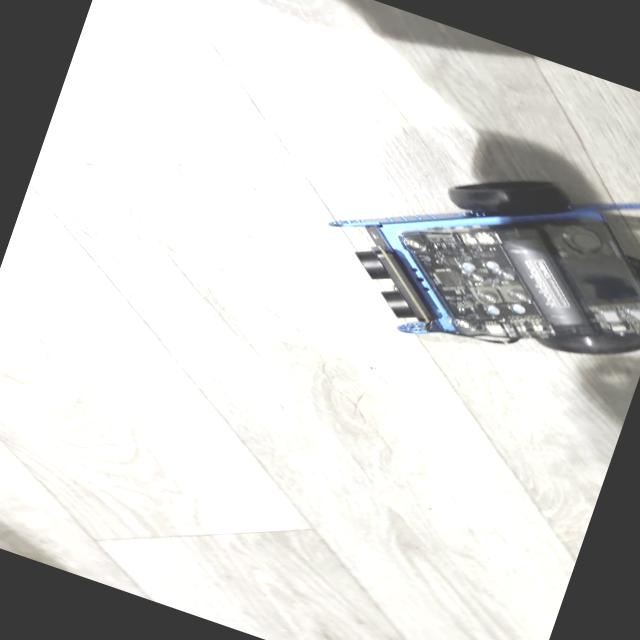mbot-detection: (286, 97, 640, 414)
